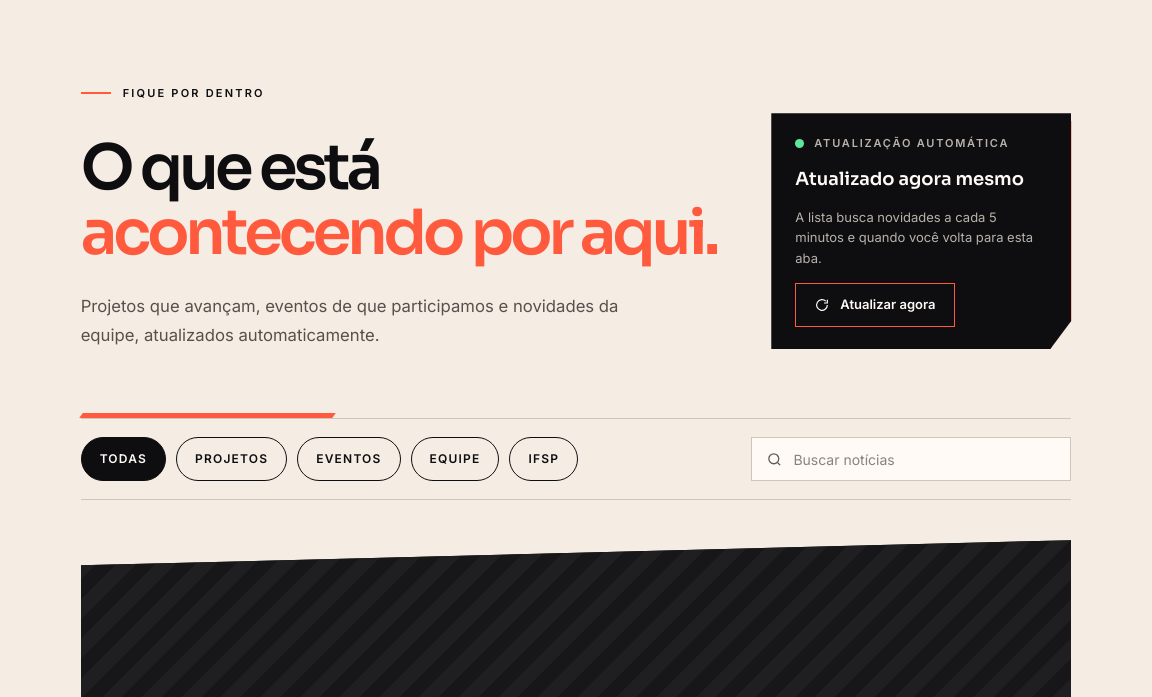
Scenario: NewsPage › busca por texto e oferece limpar os filtros quando nada é encontrado
Later steps or results of the test are not shown.
Type "corrida" into the search field labelled "Buscar notícias".
click(925, 459); type("corrida")  # box [793,449,1056,470]
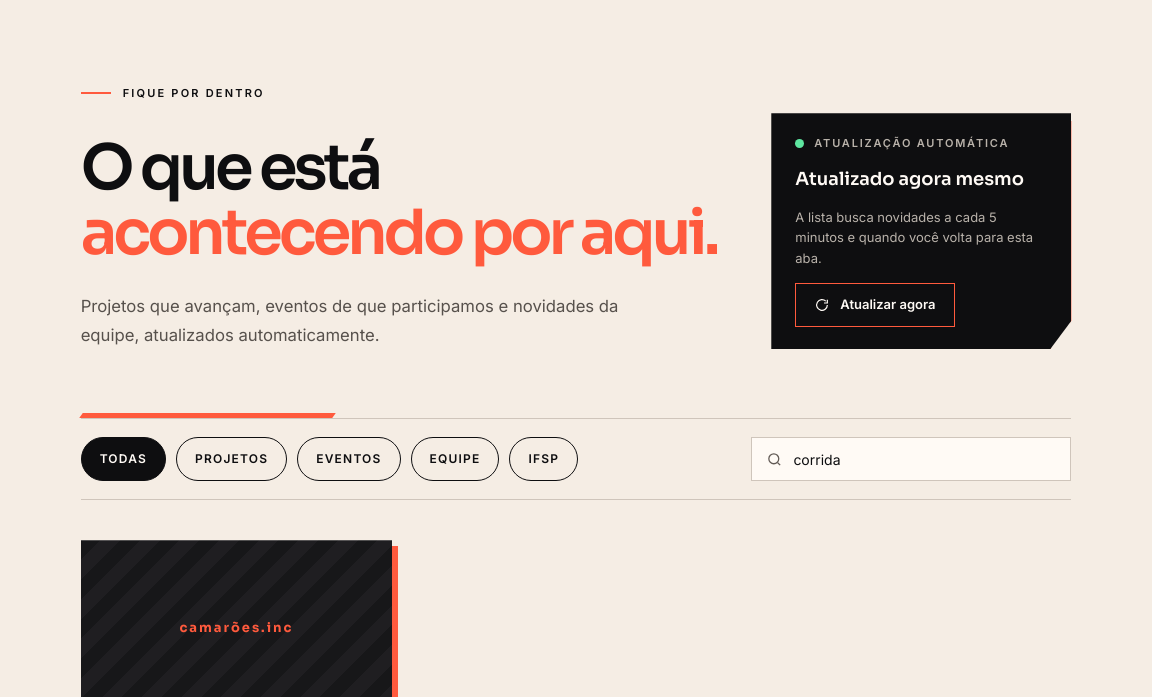
Replace the text in the search field named "Buscar notícias" with "inexistente" at (925, 459), box [793,449,1056,470]
(page scrolled)
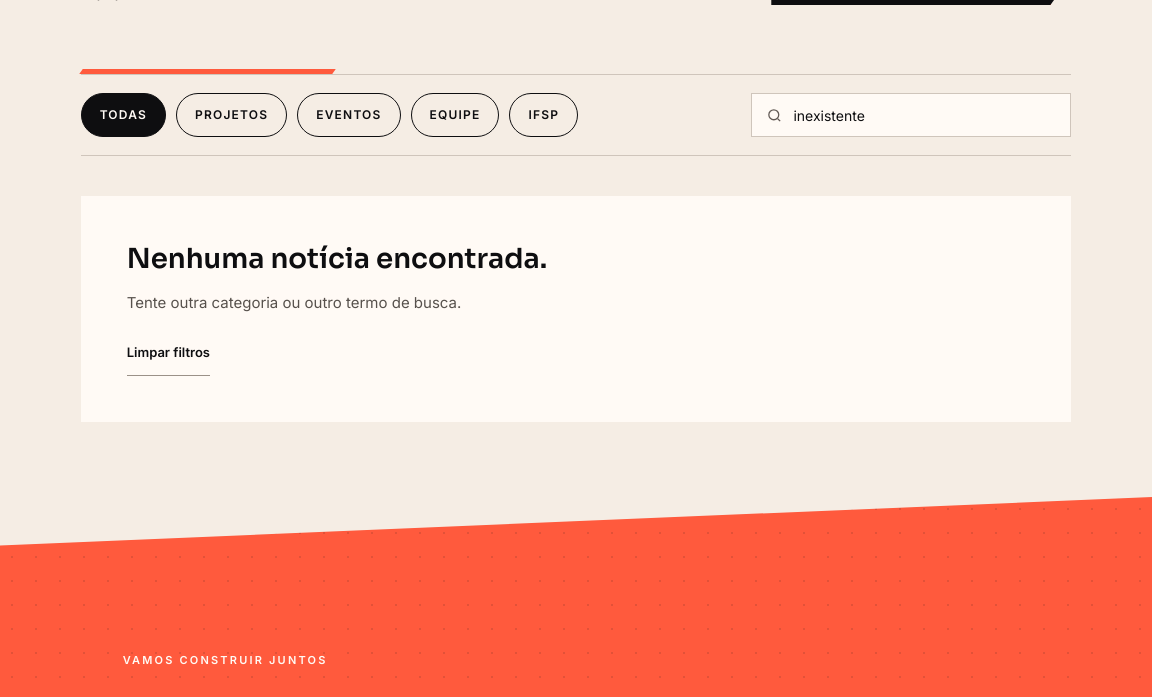
Expected: the heading "Nenhuma notícia encontrada." is shown, [127,242,547,276]
